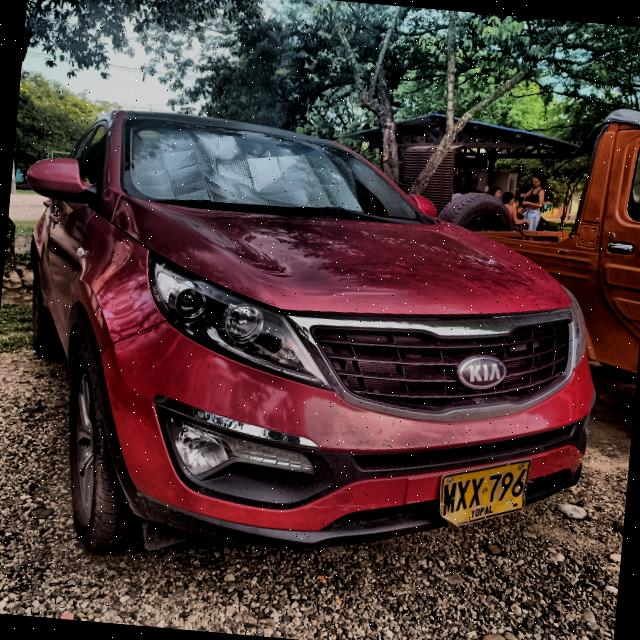plate: (441, 461, 529, 526)
